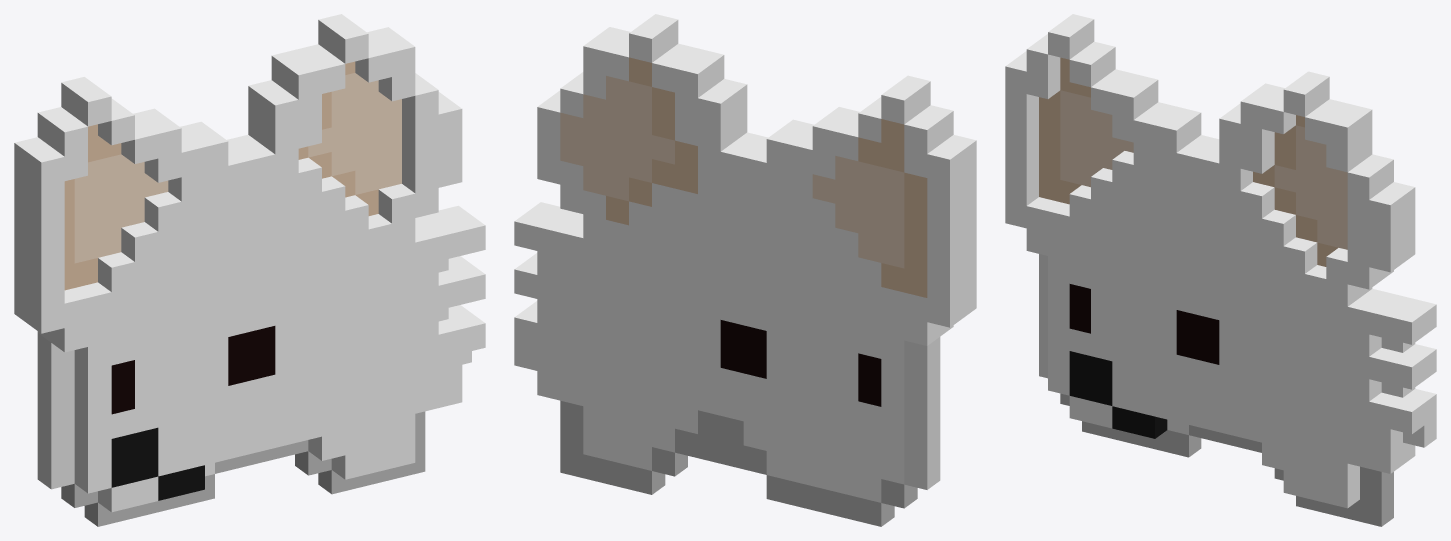
The model's file is fox2-0.obj.
The picture shows the model from 3 angles, left to right: view 1: azimuth 30°, elevation 25°; view 2: azimuth 150°, elevation 25°; view 3: azimuth 330°, elevation 25°; orthographic projection. The views are drawn at different scales.
Size of the model in its own units: 1.9 by 1.9 by 0.2.
1 material, 1 textured.
